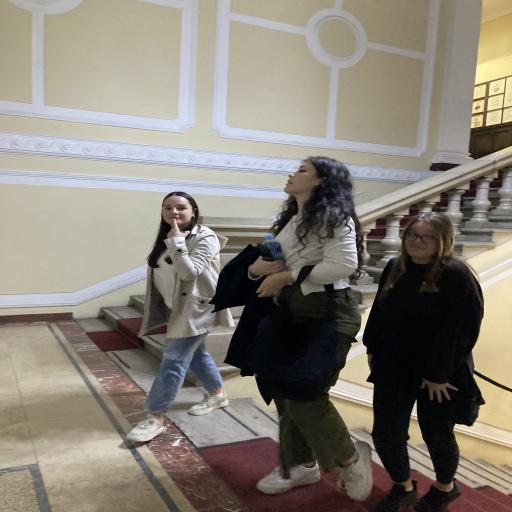marija: (162, 195, 192, 226)
